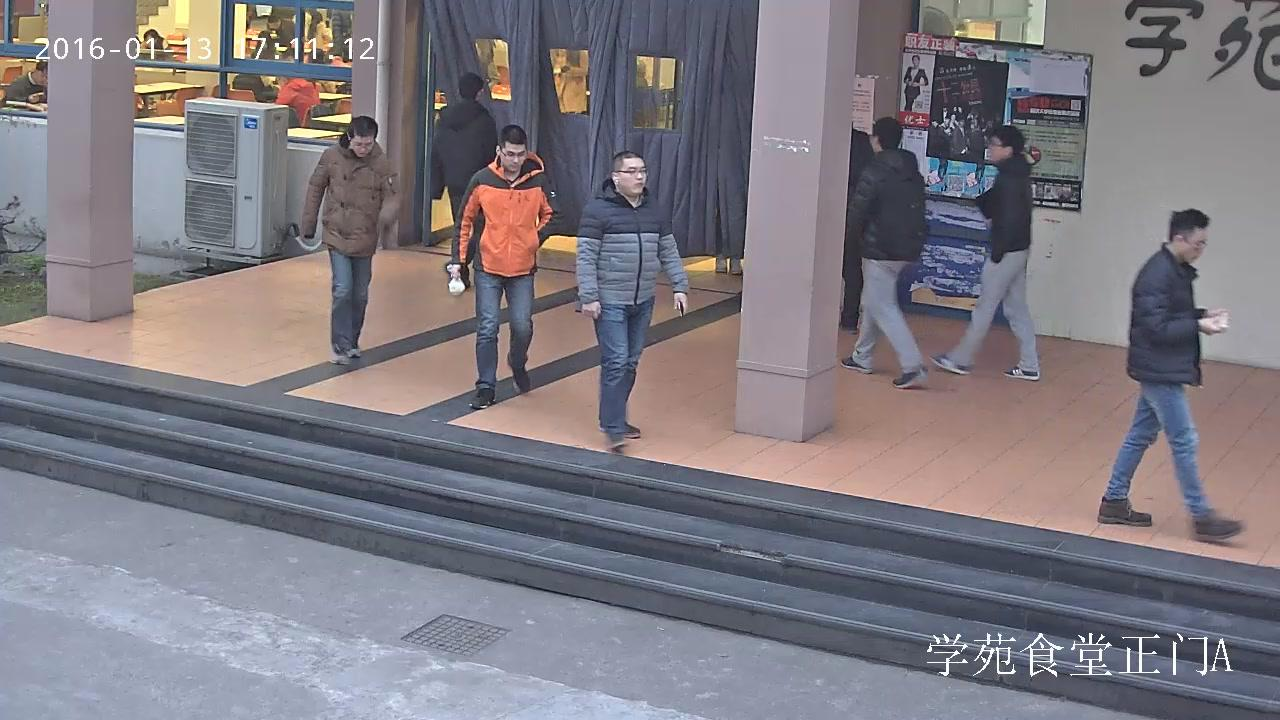person: (1094, 207, 1245, 541), (575, 150, 688, 449), (446, 123, 563, 410), (930, 123, 1039, 379), (299, 115, 400, 363), (846, 117, 929, 388), (429, 71, 496, 286), (838, 124, 877, 331), (271, 74, 319, 127), (1, 60, 47, 105), (903, 54, 928, 109), (141, 28, 172, 60)
